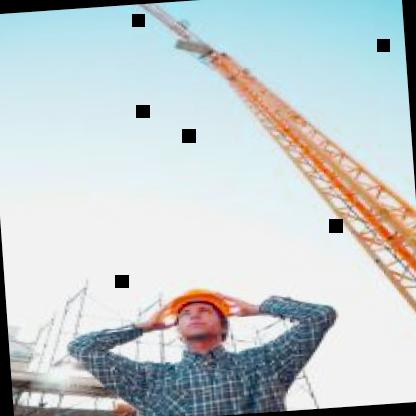helmet: (150, 278, 250, 357)
